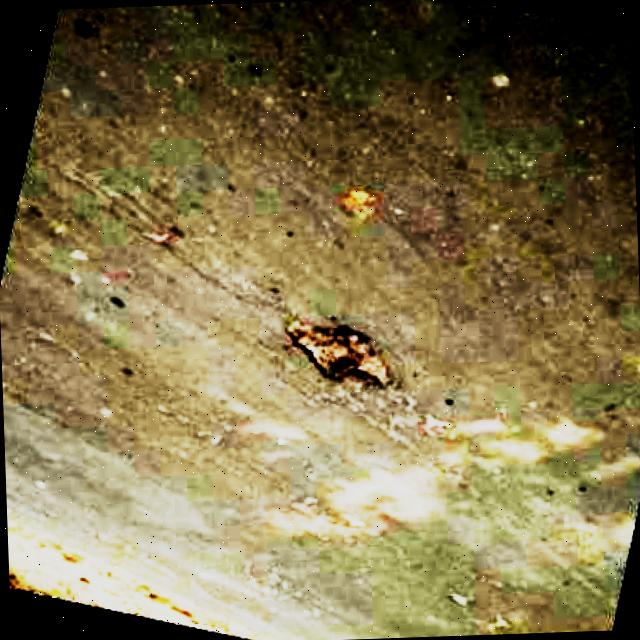pothole: (281, 313, 392, 394)
